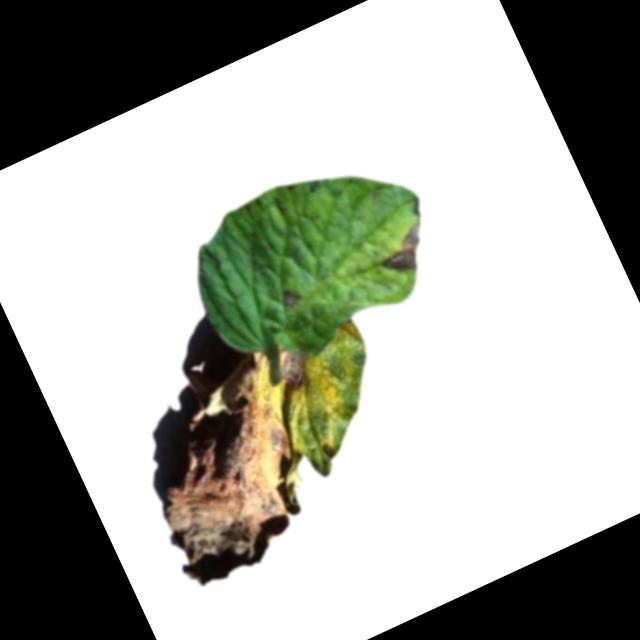Early_blight: (111, 309, 431, 593), (360, 200, 445, 285), (277, 285, 300, 310)
